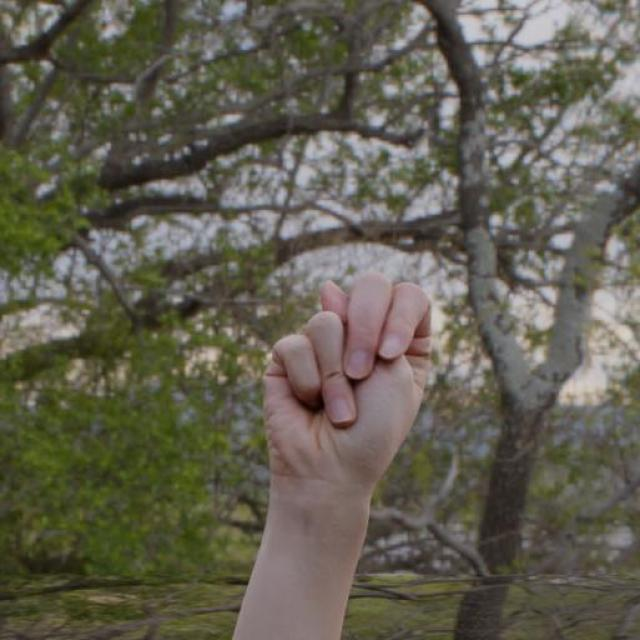N: (262, 272, 434, 482)
